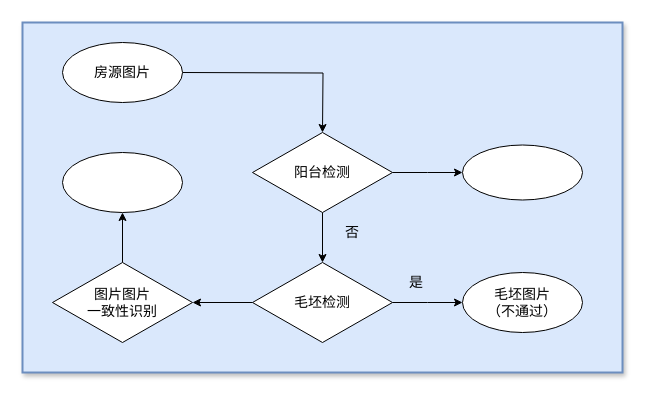
The diagram is 646 pixels wide and 397 high, and some of its shapes have lost their labels. Each missing label, with the centre of its shape:
"最终结果 （匹配详情）" goes at (122,182).
"阳台图片 （通过）" goes at (522,172).
